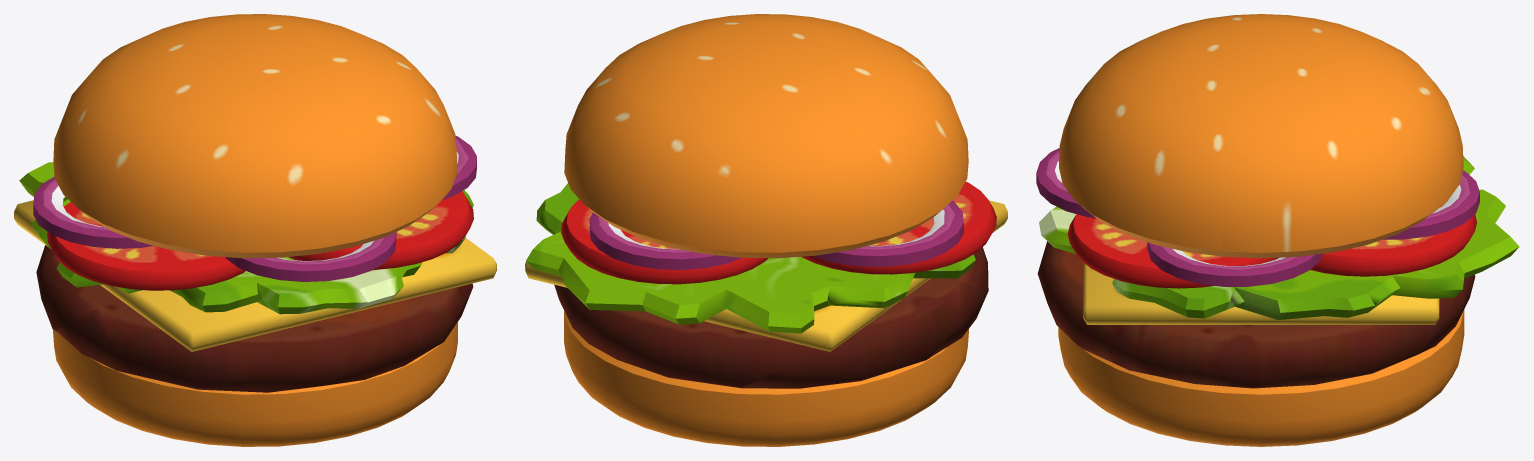
Rendered from burger.fbx.
3 views of the same model, side by side, from view 1: azimuth 30°, elevation 25°; view 2: azimuth 150°, elevation 25°; view 3: azimuth 270°, elevation 25° (orthographic).
Parts seen in each view (by area): view 1: burger_bread, burger_meat, burger_base, burger_tomato, burger_cheese, burger_lettece, burger_onions; view 2: burger_bread, burger_meat, burger_base, burger_lettece, burger_tomato, burger_onions, burger_cheese; view 3: burger_bread, burger_base, burger_meat, burger_lettece, burger_tomato, burger_onions, burger_cheese.
Boxes of the visible parts, x1,y1,x2,y2 form: burger_bread: (53,14,457,258); burger_meat: (36,245,473,392); burger_base: (53,322,457,446); burger_tomato: (47,191,473,290); burger_cheese: (14,200,496,351); burger_lettece: (19,162,473,314); burger_onions: (33,136,476,281); burger_bread: (564,14,968,258); burger_meat: (554,247,988,388); burger_base: (564,311,968,446); burger_lettece: (526,183,975,333); burger_tomato: (561,182,996,284); burger_onions: (589,200,963,269); burger_cheese: (525,200,1007,351); burger_bread: (1059,14,1463,258); burger_base: (1058,310,1464,446); burger_meat: (1037,241,1475,388); burger_lettece: (1039,156,1519,319); burger_tomato: (1067,201,1476,288); burger_onions: (1036,148,1479,286); burger_cheese: (1083,262,1439,324).
Size of the model in its own units: 0.599 by 0.4607 by 0.625.
